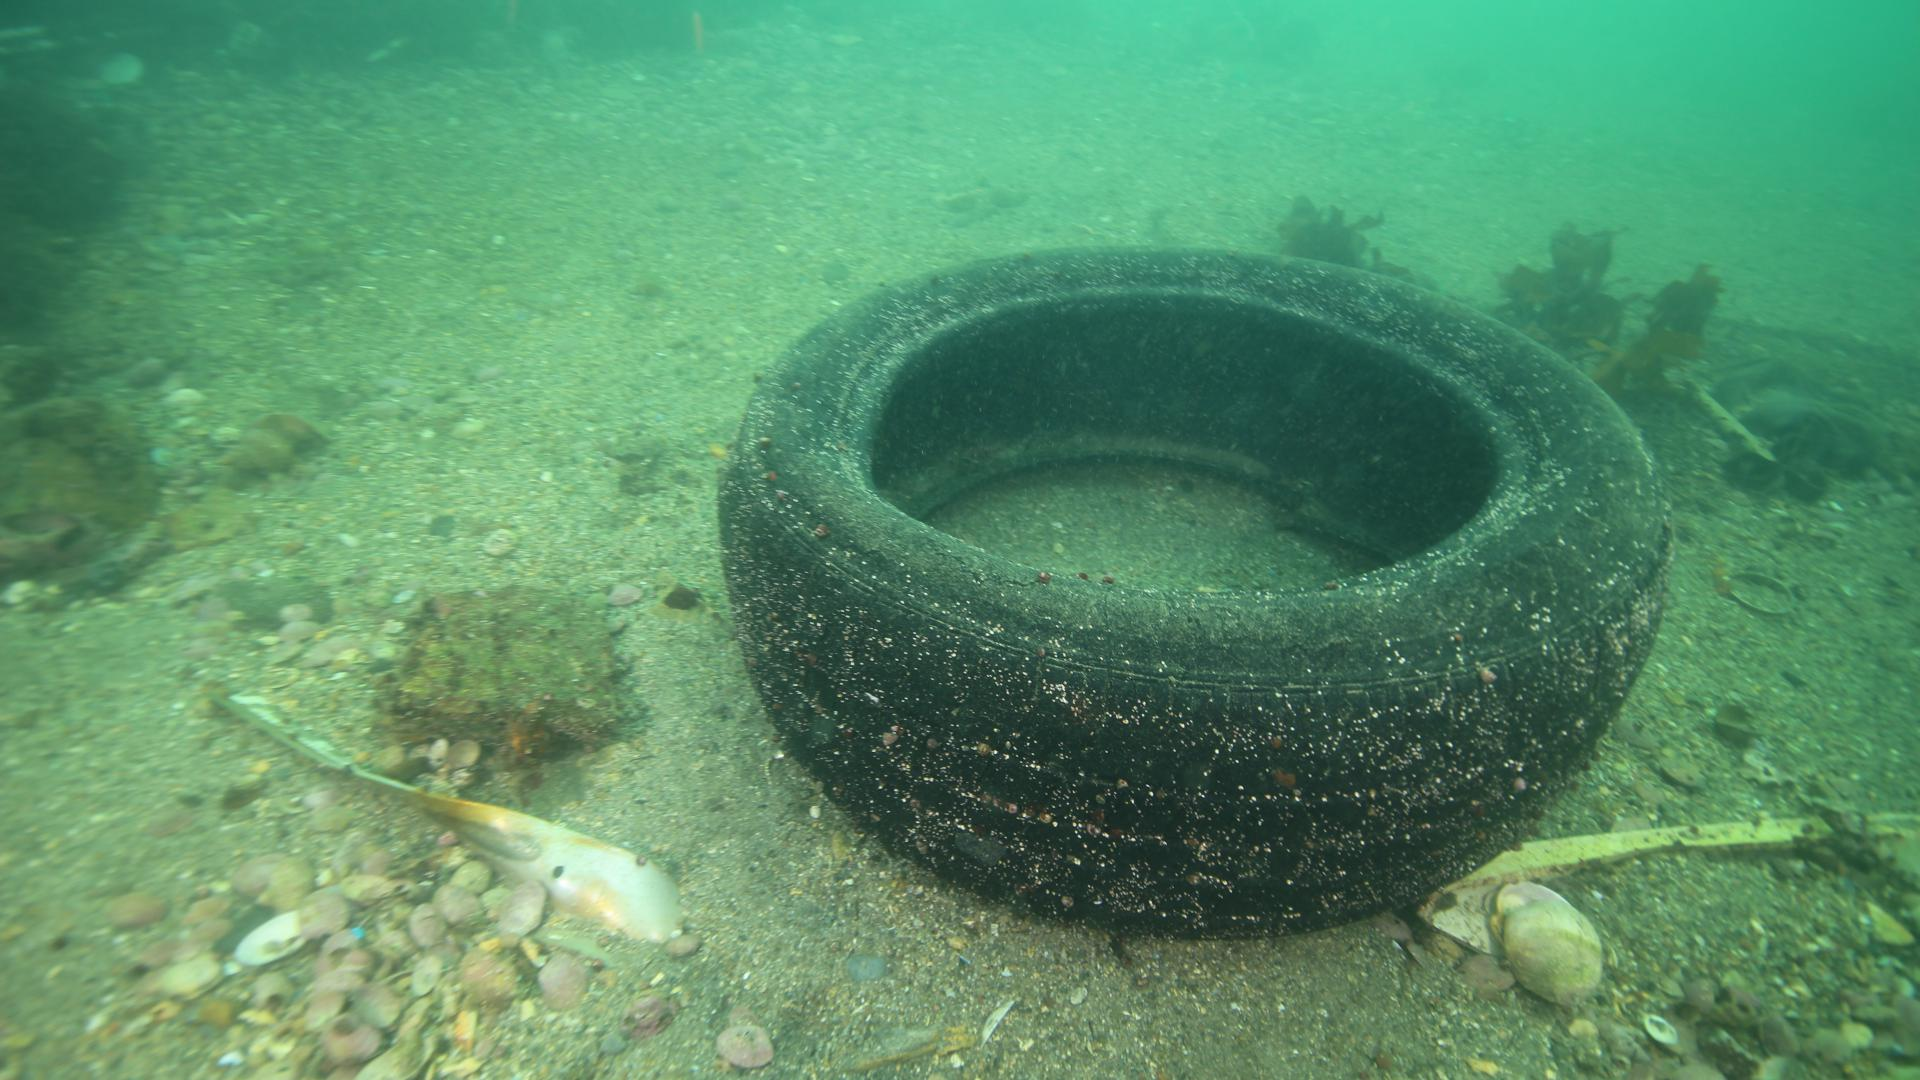tire: (717, 239, 1671, 940)
